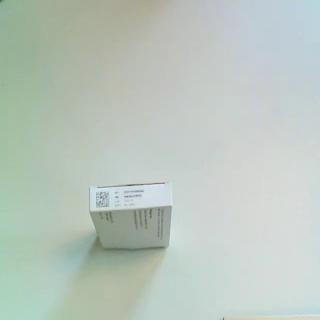dolcontin10mg: (88, 180, 175, 254)
